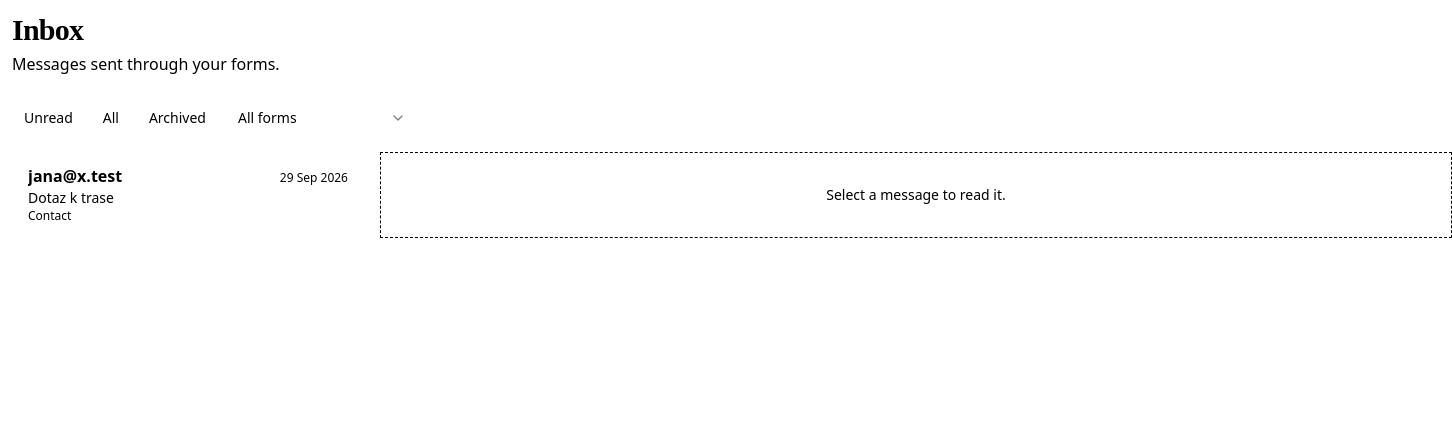
Scenario: InboxPage › shows unread messages by default and opens one, marking it read once
Click the link "jana@x.test 29 Sep 2026 Dotaz k trase Contact".
click(75, 176)  # box [12,152,364,236]
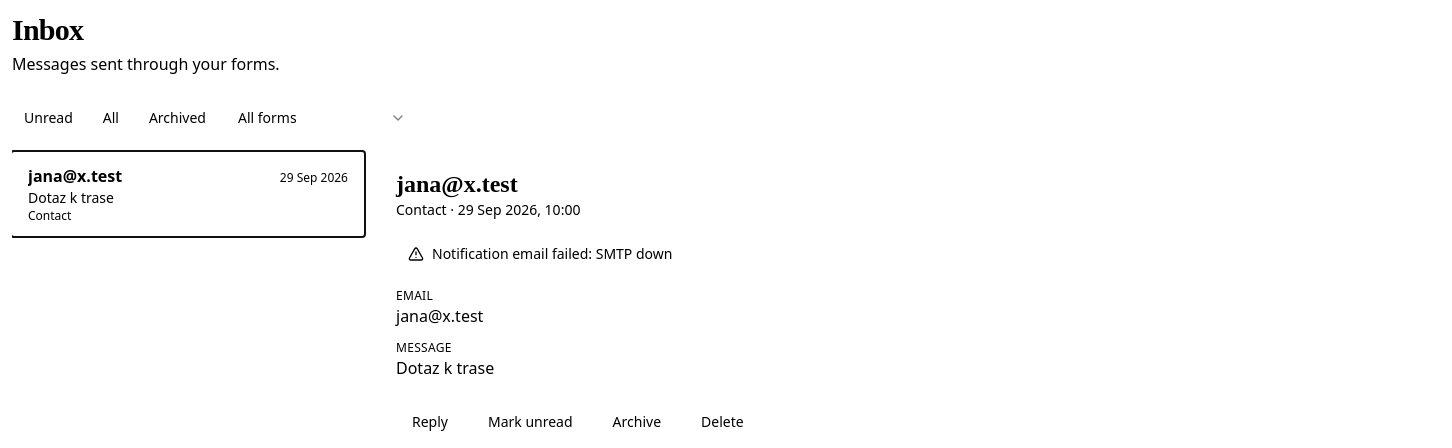
Expected: the text "Dotaz k trase" below "Notification email failed: SMTP down" is shown, [396,357,494,379]
Expected: the text "Notification email failed: SMTP down" is shown, [408,244,672,263]
